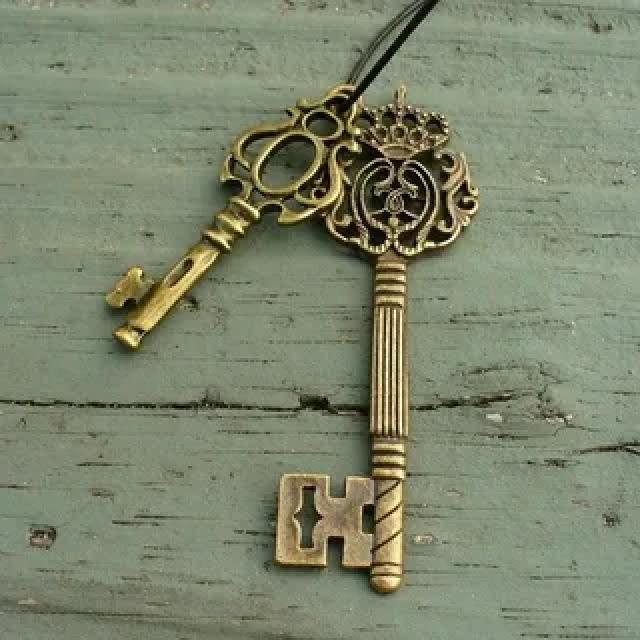key: (69, 76, 365, 361)
